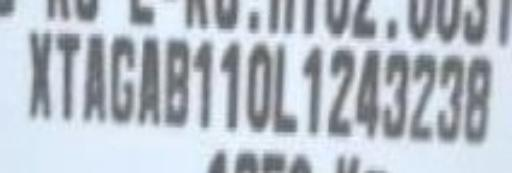letter: (130, 36, 166, 127), (296, 45, 328, 138), (22, 28, 54, 119), (434, 55, 466, 146), (244, 43, 274, 134), (324, 48, 354, 139), (464, 55, 494, 146), (408, 52, 438, 141), (51, 29, 79, 122), (162, 36, 190, 129), (191, 38, 219, 131), (215, 40, 243, 131), (270, 43, 298, 134), (82, 29, 108, 124), (355, 45, 381, 138), (108, 33, 134, 124), (379, 50, 405, 139)
